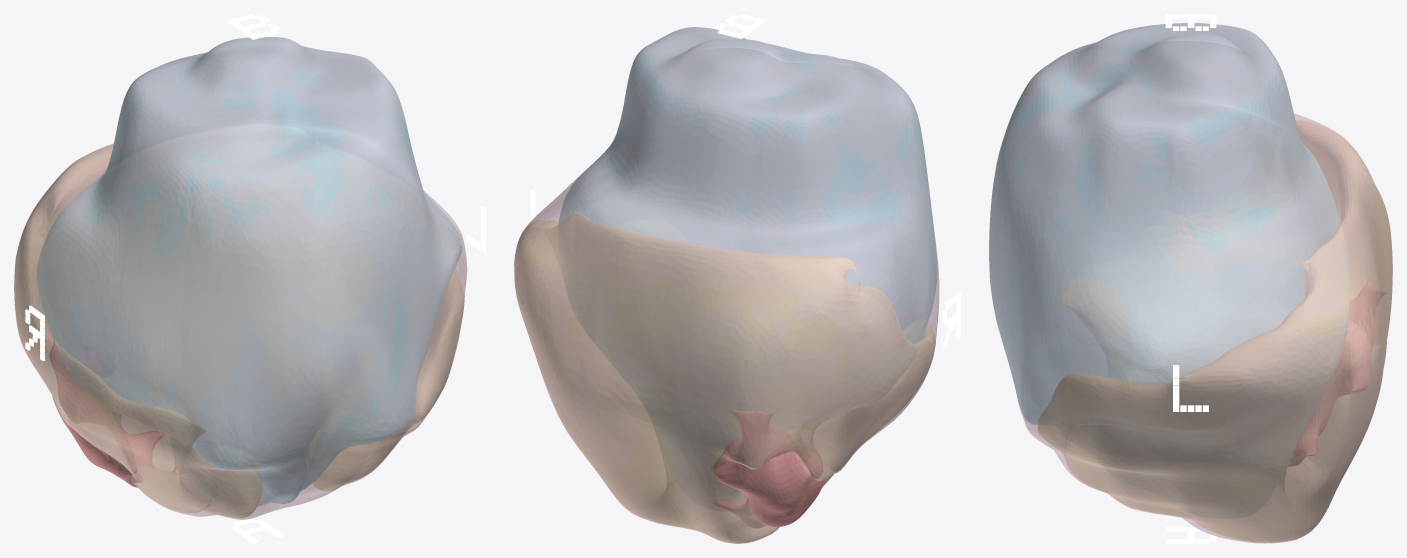
The picture shows the model from 3 angles, left to right: view 1: azimuth 30°, elevation 25°; view 2: azimuth 150°, elevation 25°; view 3: azimuth 270°, elevation 25°; orthographic projection. The views are drawn at different scales.
Parts seen in each view (by area): view 1: prostate_gland, transition_zone, peripheral_zone, lesion_01, pv_ar_marker_B, pv_ar_marker_R; view 2: prostate_gland, peripheral_zone, transition_zone, lesion_01, pv_ar_marker_B, pv_ar_marker_R; view 3: prostate_gland, transition_zone, peripheral_zone, lesion_01, pv_ar_marker_B, pv_ar_marker_A, pv_ar_marker_L.
Boxes of the visible parts, x1,y1,x2,y2 form: prostate_gland: [14, 37, 467, 519]; transition_zone: [36, 37, 461, 503]; peripheral_zone: [14, 145, 464, 517]; lesion_01: [49, 341, 163, 487]; pv_ar_marker_B: [228, 14, 279, 39]; pv_ar_marker_R: [25, 305, 44, 361]; prostate_gland: [514, 27, 939, 543]; peripheral_zone: [514, 210, 935, 543]; transition_zone: [559, 27, 937, 381]; lesion_01: [711, 410, 823, 528]; pv_ar_marker_B: [715, 14, 765, 38]; pv_ar_marker_R: [942, 292, 960, 348]; prostate_gland: [989, 23, 1392, 543]; transition_zone: [989, 23, 1349, 440]; peripheral_zone: [1038, 120, 1392, 542]; lesion_01: [1288, 277, 1386, 466]; pv_ar_marker_B: [1165, 14, 1216, 30]; pv_ar_marker_A: [1165, 527, 1216, 543]; pv_ar_marker_L: [1173, 365, 1208, 411].
Bounding box in the file's own units: 0.0512 × 0.0559 × 0.0398.
